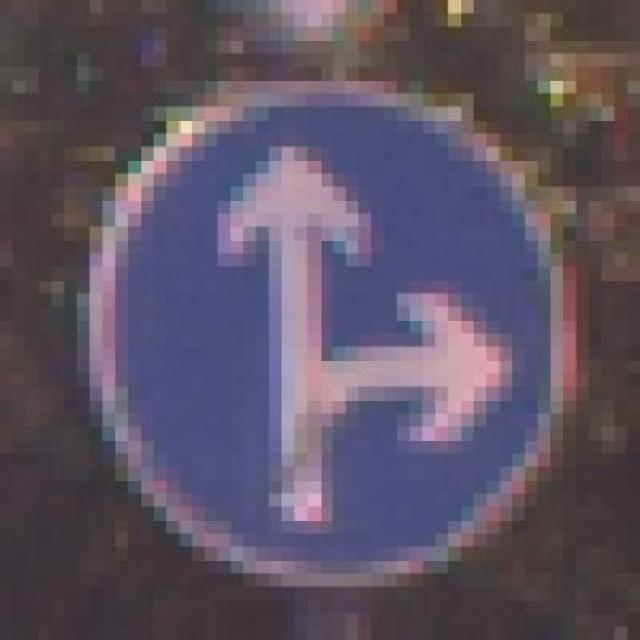Go Straight or Turn Right: (64, 80, 576, 614)
